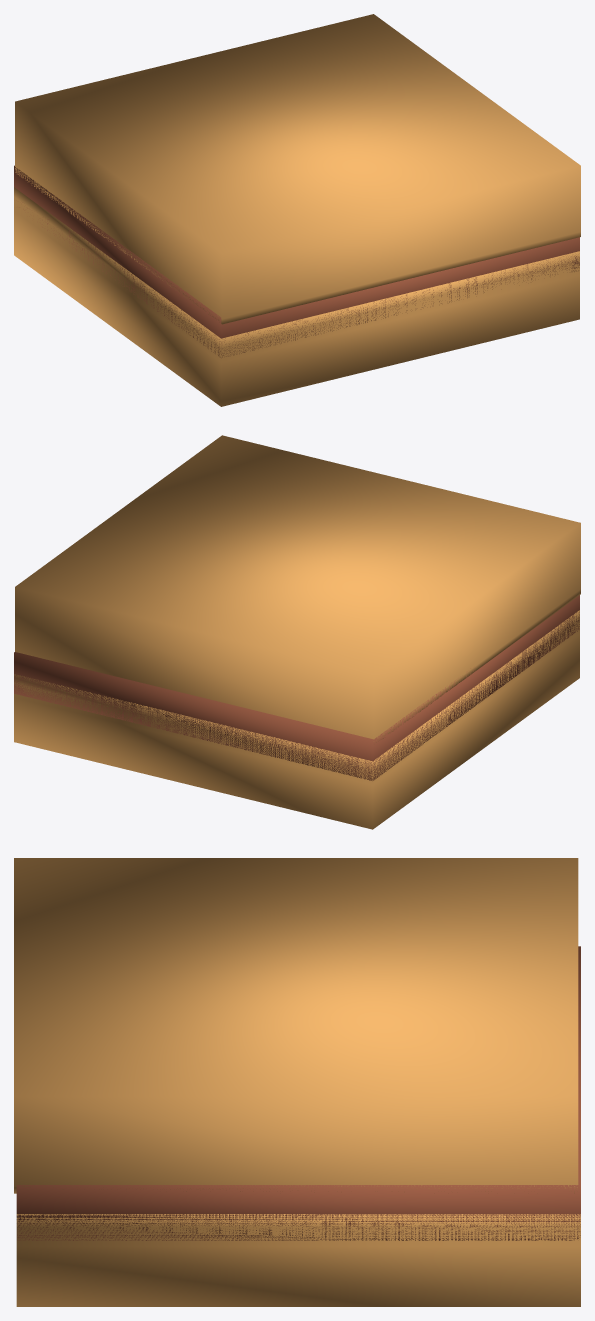
The model's file is hamburger.glb.
3 views of the same model, one above another, from view 1: azimuth 30°, elevation 25°; view 2: azimuth 150°, elevation 25°; view 3: azimuth 270°, elevation 25° (orthographic). The views are drawn at different scales.
Visible parts, largest first — view 1: topBun, bottomBun, meat; view 2: topBun, bottomBun, meat; view 3: topBun, bottomBun, meat.
Boxes of the visible parts, left/top/right/bottom form: topBun: left=15, top=14, right=580, bottom=324; bottomBun: left=14, top=187, right=579, bottom=406; meat: left=14, top=165, right=579, bottom=357; topBun: left=15, top=435, right=580, bottom=742; bottomBun: left=14, top=610, right=579, bottom=829; meat: left=14, top=595, right=579, bottom=780; topBun: left=14, top=858, right=578, bottom=1193; bottomBun: left=16, top=1214, right=580, bottom=1306; meat: left=16, top=946, right=580, bottom=1240.
Bounding box in the file's own units: 10 × 4.11 × 10.05.
